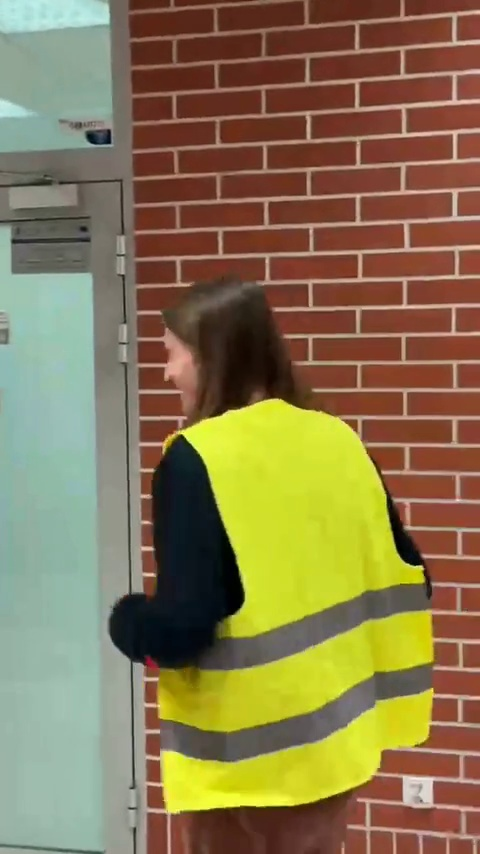vest: (114, 276, 432, 848)
